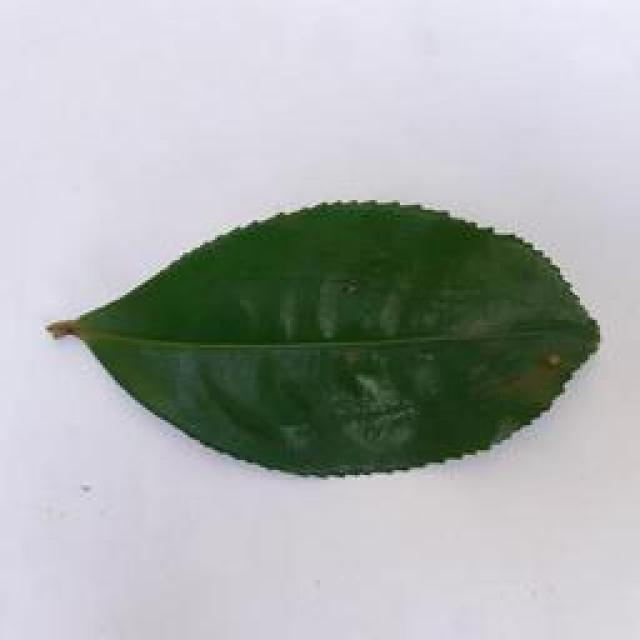Healthy: (47, 197, 606, 484)
